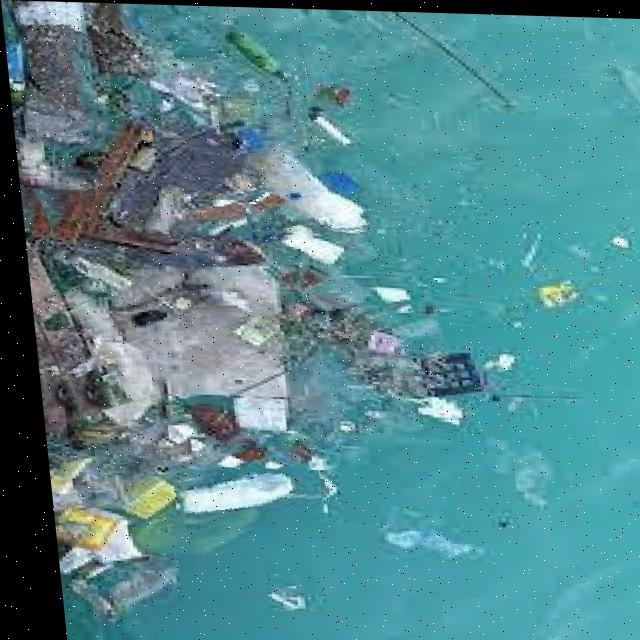litter: (15, 188, 110, 417), (36, 113, 158, 249), (236, 152, 376, 240), (13, 0, 94, 137), (163, 465, 313, 537), (89, 2, 172, 72), (211, 30, 306, 90), (304, 104, 373, 148)
